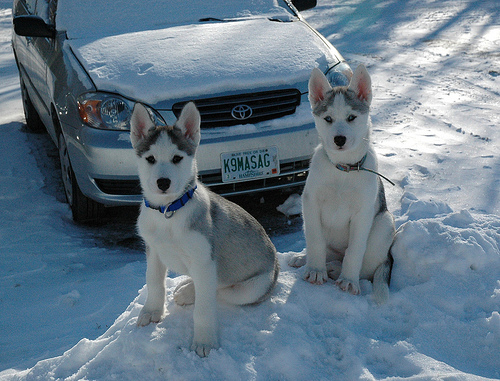dog: (127, 101, 280, 362), (288, 63, 396, 307)
